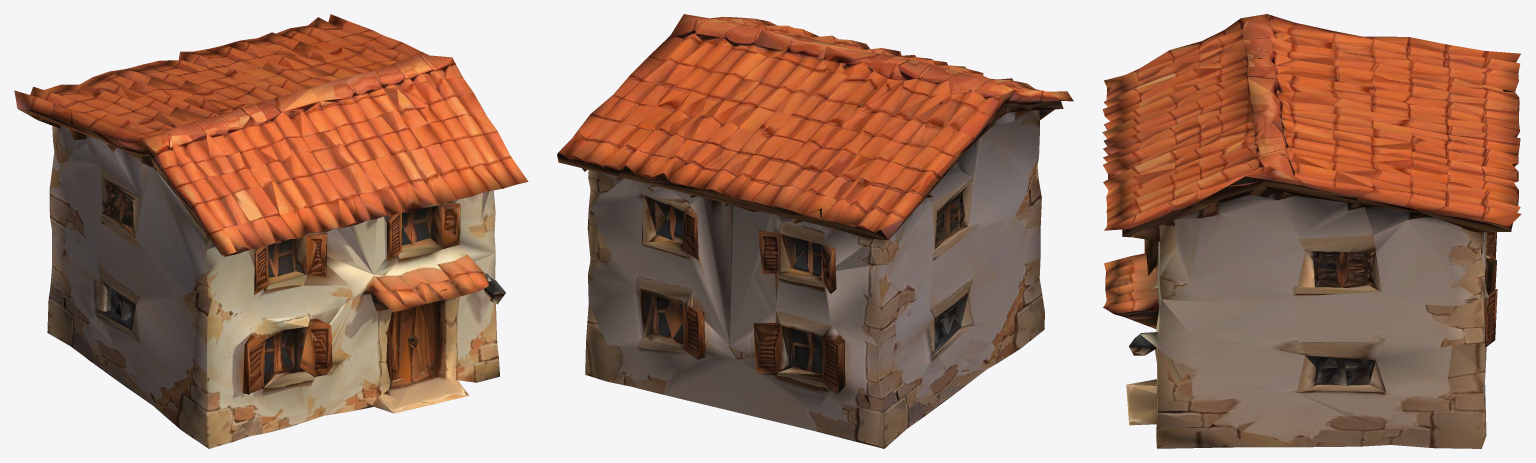
Rendered from hut.glb.
3 views of the same model, side by side, from view 1: azimuth 30°, elevation 25°; view 2: azimuth 150°, elevation 25°; view 3: azimuth 270°, elevation 25° (orthographic). The views are drawn at different scales.
Parts seen in each view (by area): view 1: HutMesh; view 2: HutMesh; view 3: HutMesh.
Part boxes in pixels (<box>): HutMesh: <box>14,14,528,448</box>; HutMesh: <box>557,14,1073,448</box>; HutMesh: <box>1102,14,1521,448</box>.
Bounding box in the file's own units: 4 × 3.3 × 4.3.
1 material, 1 textured.
